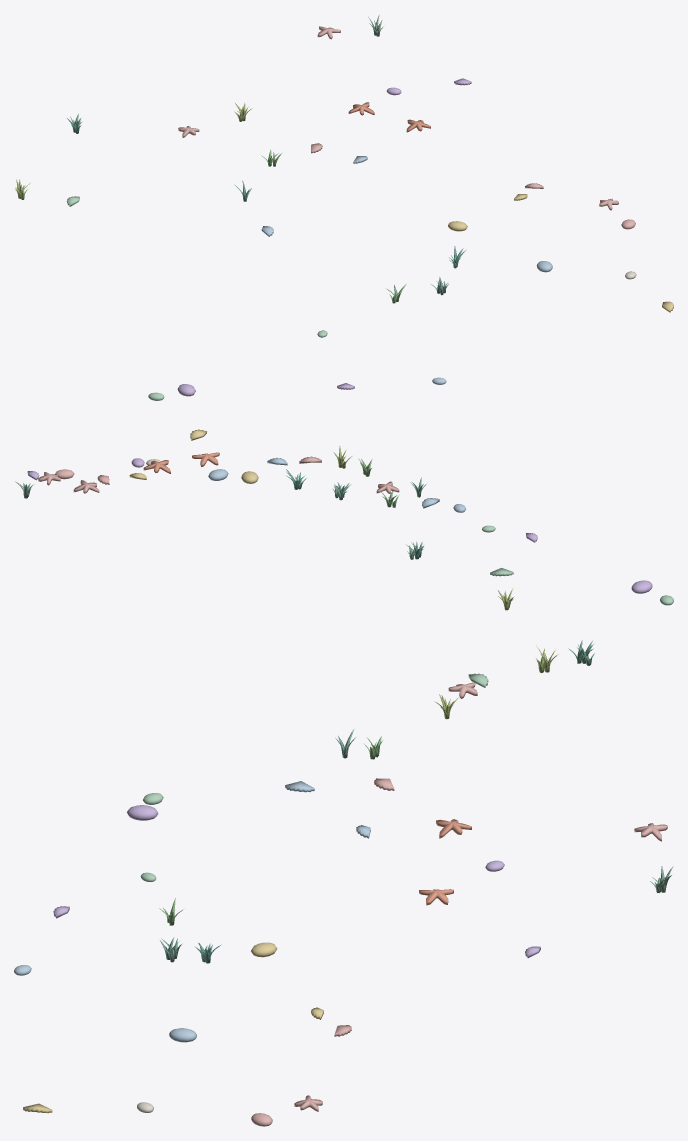
File: W2_FloraRing_10_7.fbx
3 renders of one model, top to bottom at view 1: azimuth 30°, elevation 25°; view 2: azimuth 150°, elevation 25°; view 3: azimuth 270°, elevation 25°, orthographic. The views are drawn at different scales.
Visible parts, largest first — view 1: W2_FloraRing_10_7; view 2: W2_FloraRing_10_7; view 3: W2_FloraRing_10_7.
Boxes of the visible parts, x1,y1,x2,y2 form: W2_FloraRing_10_7: [15, 15, 673, 400]; W2_FloraRing_10_7: [15, 429, 673, 610]; W2_FloraRing_10_7: [14, 640, 673, 1126].
Size of the model in its own units: 4.07 by 1.32 by 3.18.
